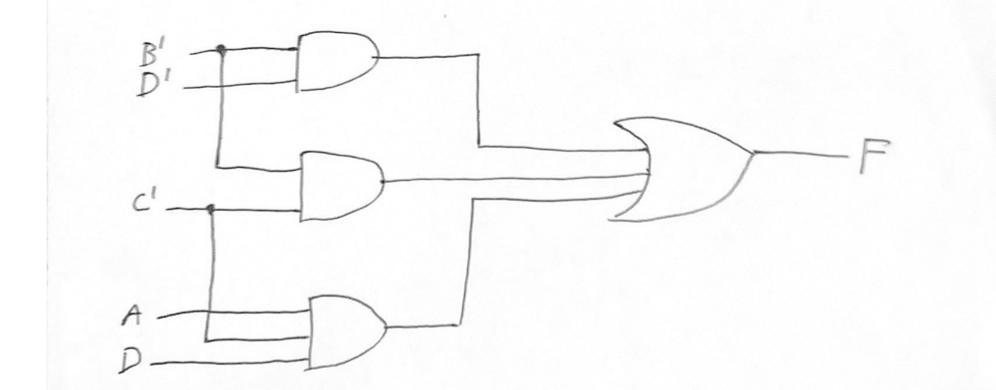AND: (292, 133, 401, 238), (294, 273, 393, 376), (286, 22, 390, 108)
OR: (608, 100, 766, 240)
